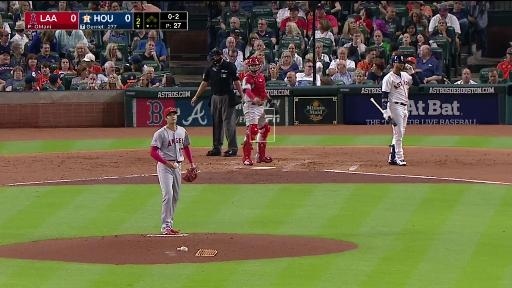pitcher: (150, 107, 199, 235)
